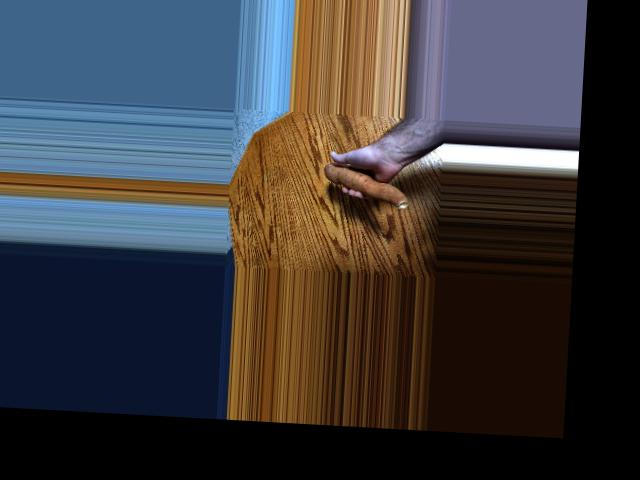sweet_potato: (322, 162, 412, 209)
